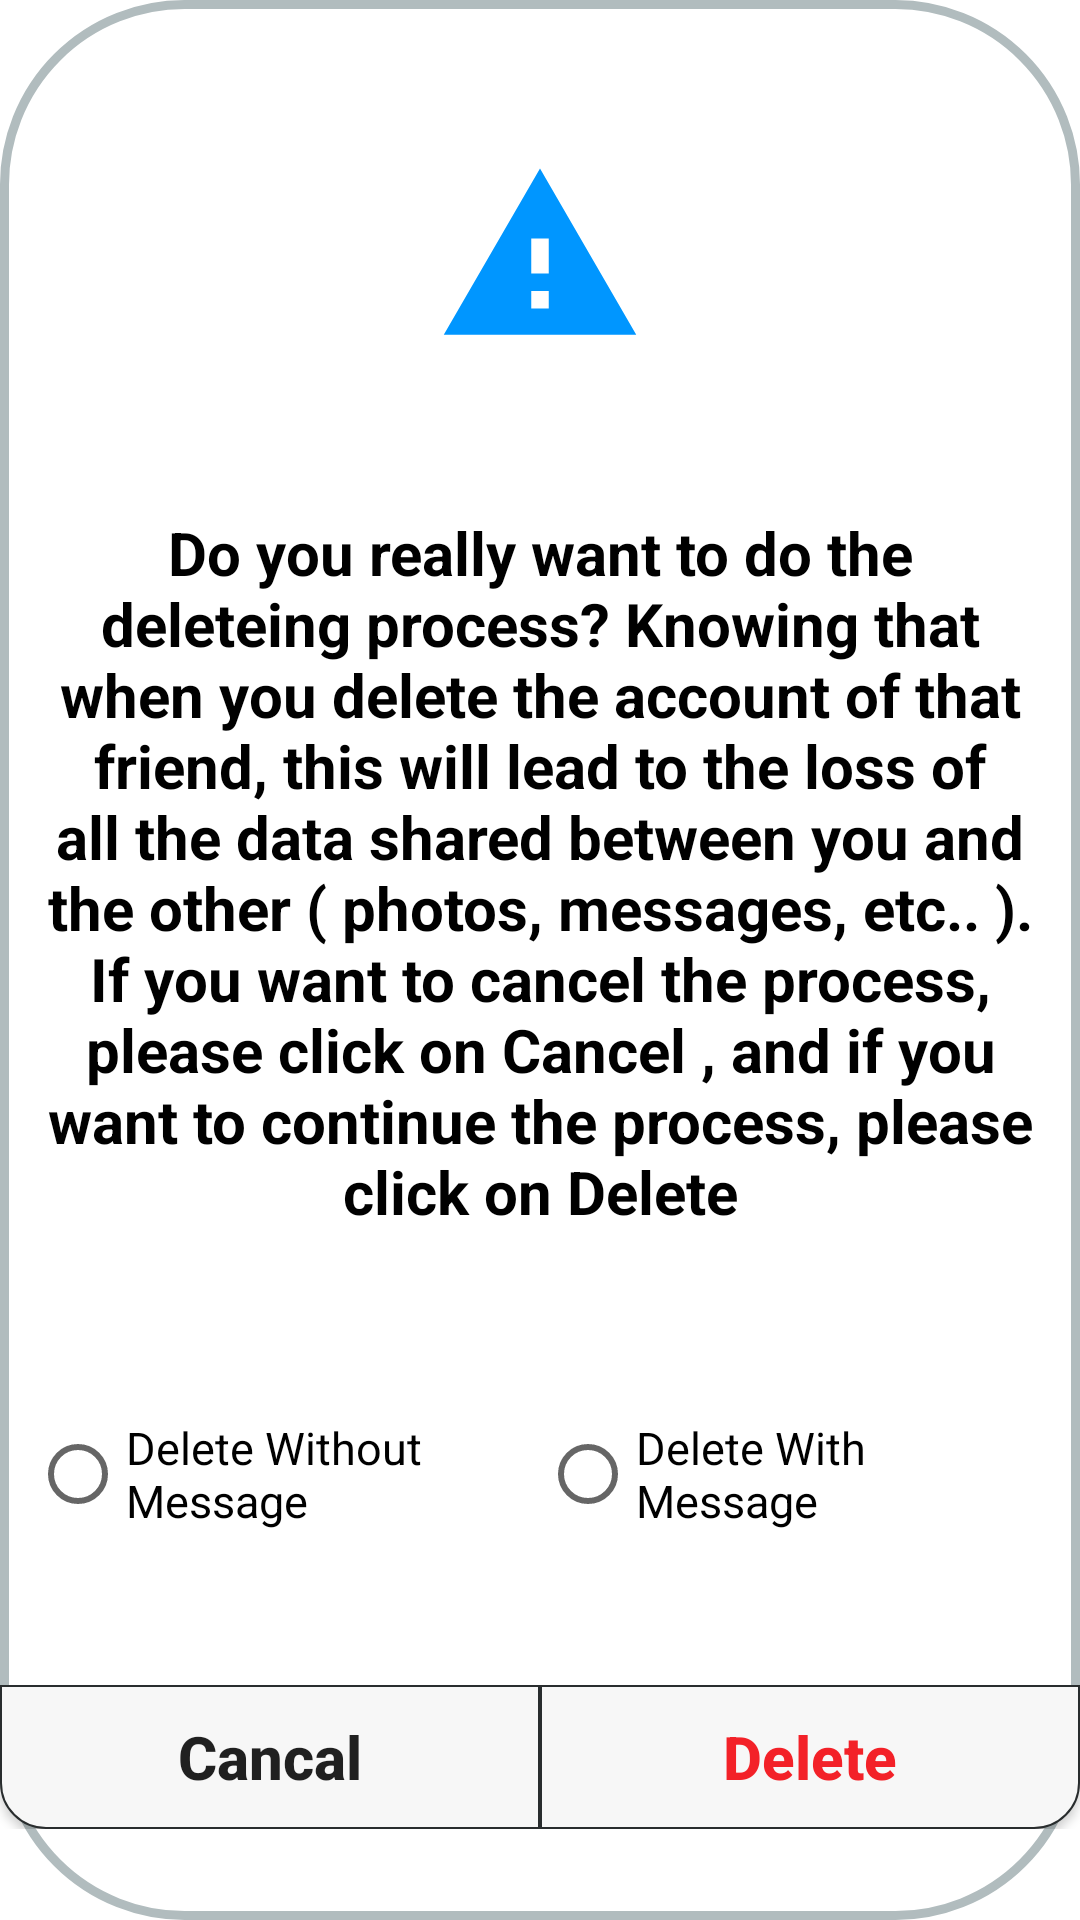

Named icons in this screenshot (1080 x 1920) and their centers, [x,y]:
warning: [540,252]
